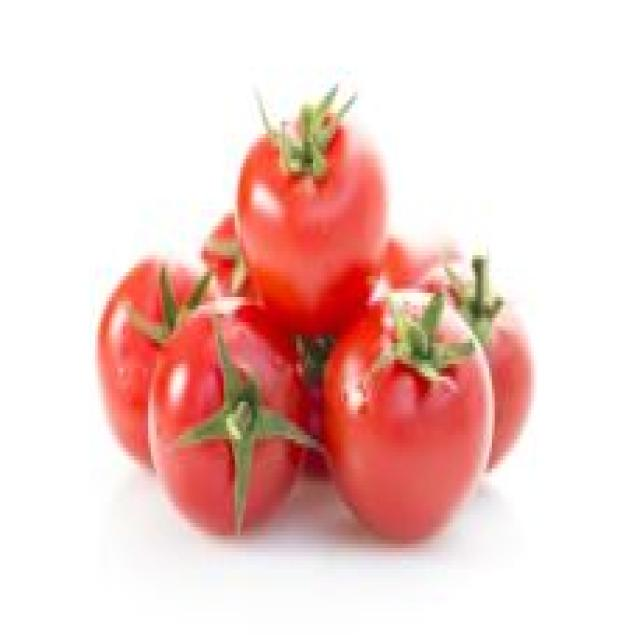level 6: (304, 269, 500, 572), (129, 287, 310, 556), (216, 96, 402, 327), (387, 242, 539, 476), (84, 252, 236, 478), (266, 336, 348, 492)
